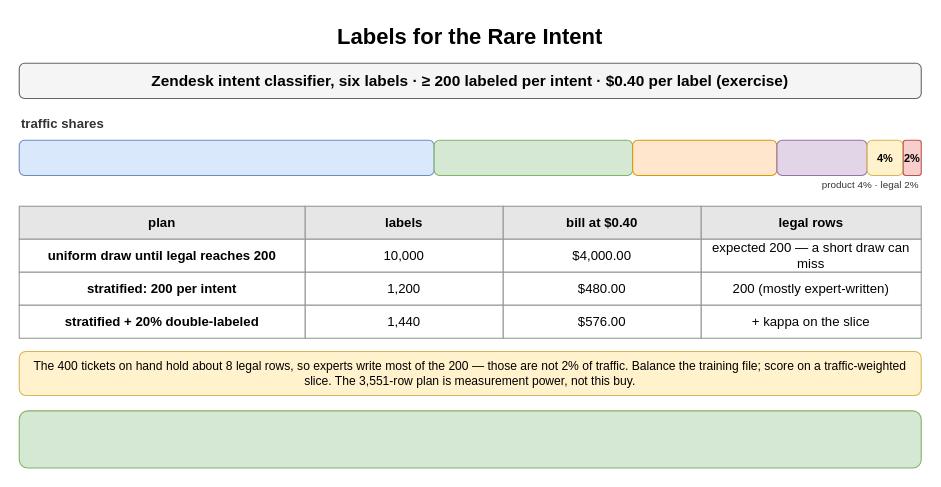
Some shapes in this 941 by 487 pixel diagram are drawn without their labels. Here are the shapes that lost their labels. From the top down, the centre of each, then its label:
At point (226, 157): "order_status 46%".
At point (533, 157): "refund 22%".
At point (704, 157): "shipping 16%".
At point (821, 157): "account 10%".
At point (469, 439): "Answer: 10000 1200 8 4000.00 480.00 576.00".
